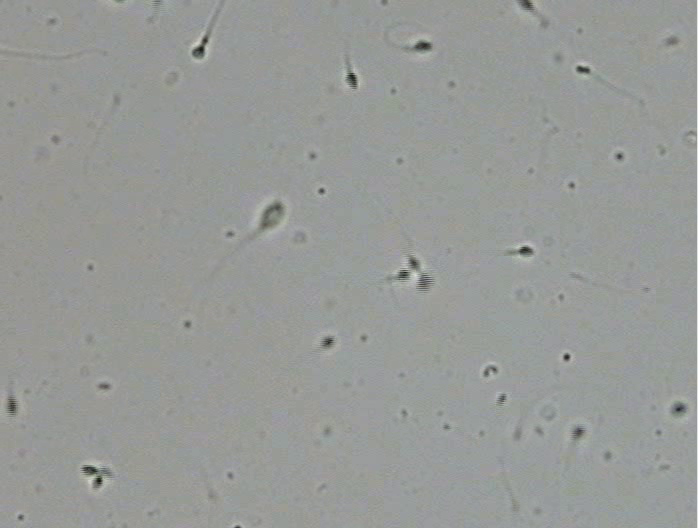S: (259, 202, 284, 229), (416, 272, 434, 293), (5, 396, 18, 417), (345, 71, 359, 90), (406, 255, 421, 271), (80, 464, 99, 476), (413, 40, 432, 52), (192, 45, 206, 60), (570, 426, 585, 440), (395, 268, 411, 281), (320, 336, 335, 349), (671, 402, 686, 415), (518, 245, 534, 257), (518, 1, 534, 13), (91, 475, 103, 490), (575, 64, 591, 74)
